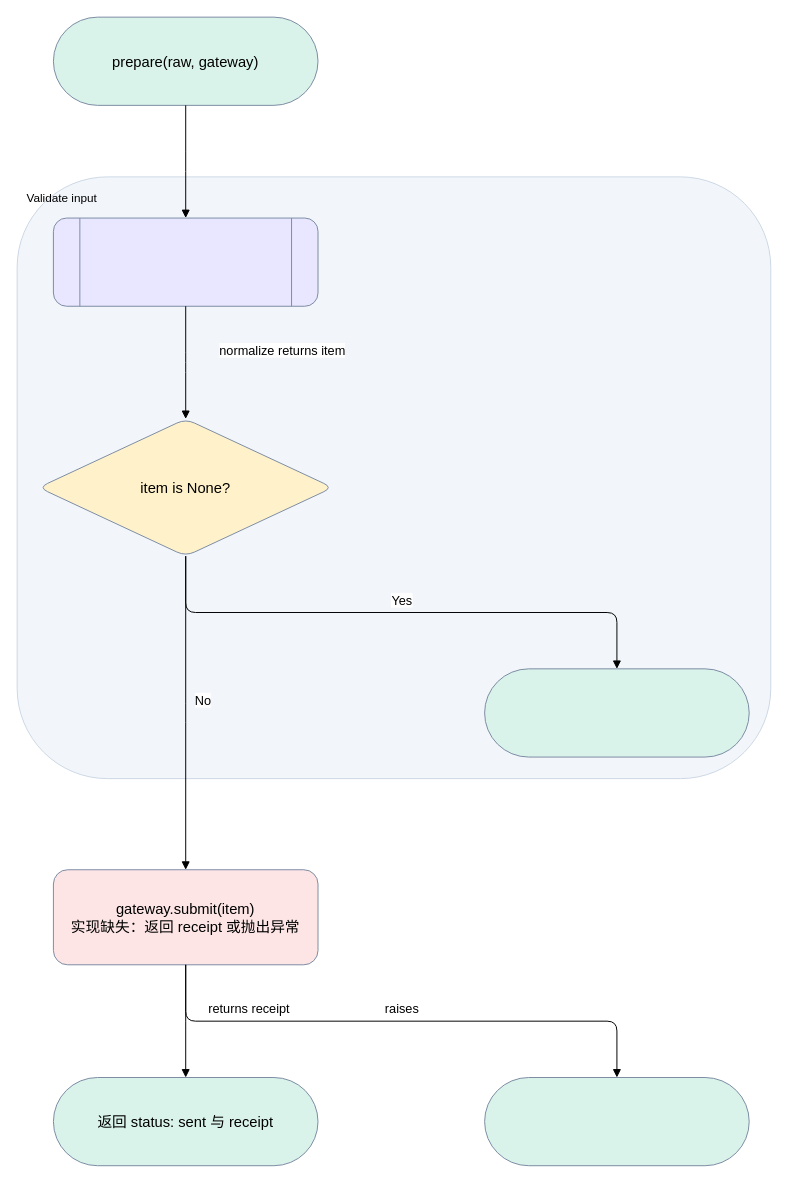
The diagram is 788 pixels wide and 1183 high, and some of its shapes have lost their labels. The shapes that lost their labels are listed below. From the top down, each one's centre as x and y in pixels, then its label:
At point 185,261: "调用 normalize(raw) 返回 item 后继续判断".
At point 616,712: "返回 status: invalid".
At point 616,1121: "异常传播给 prepare 调用方".
